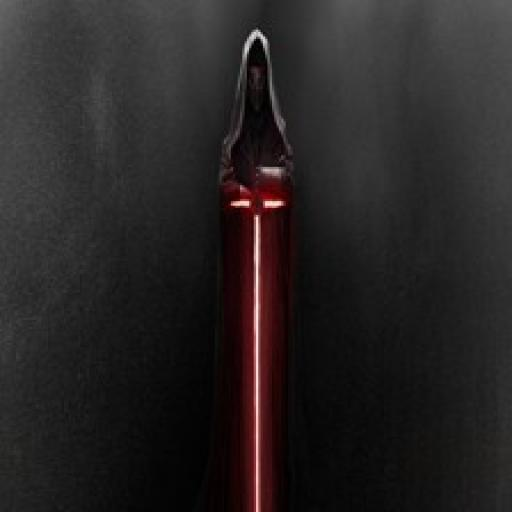sith saber: (227, 172, 284, 512)
